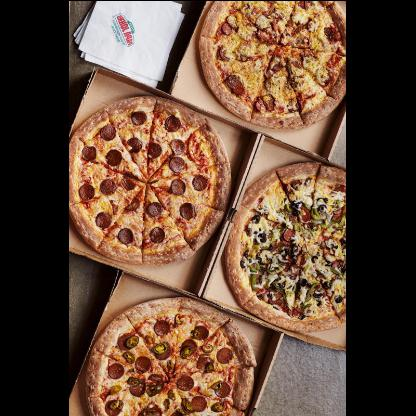pizza: (71, 94, 233, 264), (226, 162, 348, 332), (86, 296, 259, 415), (199, 1, 347, 128)
